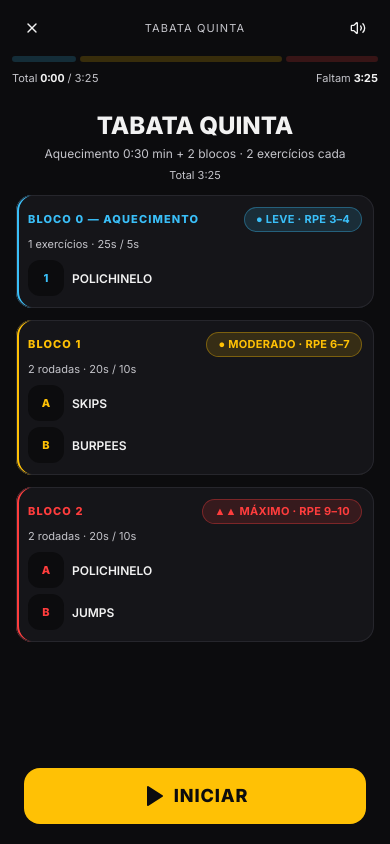
Player do TABATA — tela nova › no descanso o topo já mostra a próxima rodada e o card "A seguir"
Click the button "Iniciar" at (195, 796), box [24,768,366,824]
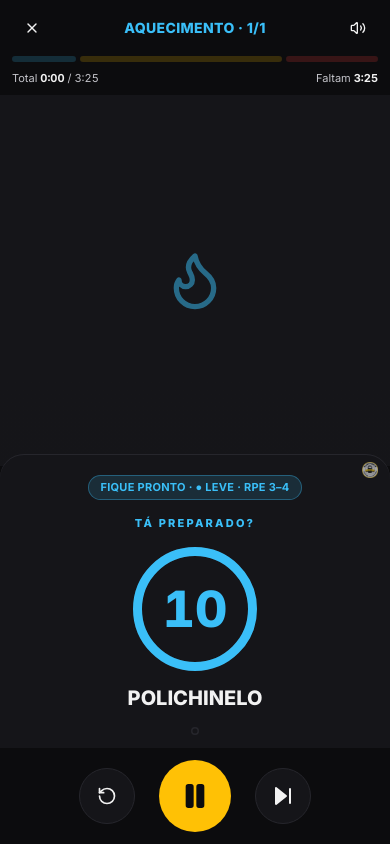
Click the button named "Avançar" at (283, 796), box [255,768,311,824]
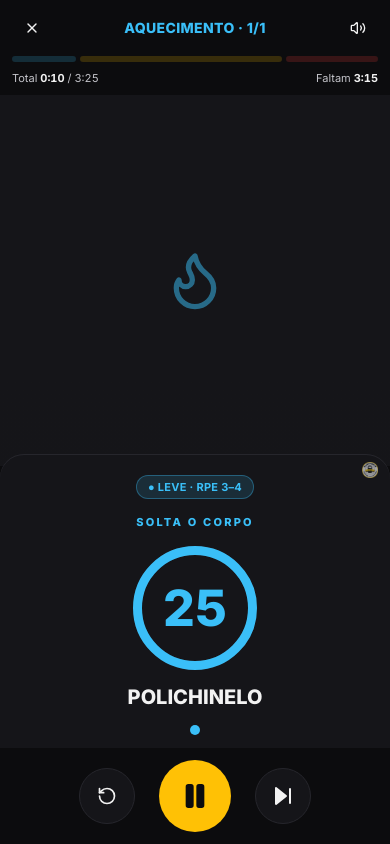
Click the button named "Avançar" at (283, 796), box [255,768,311,824]
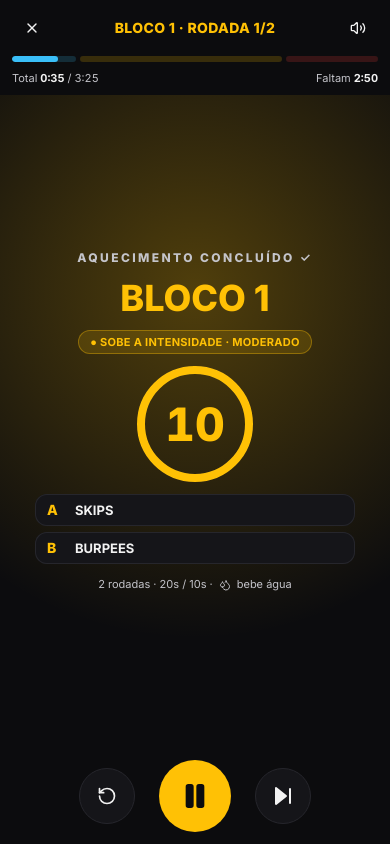
Click the button named "Avançar" at (283, 796), box [255,768,311,824]
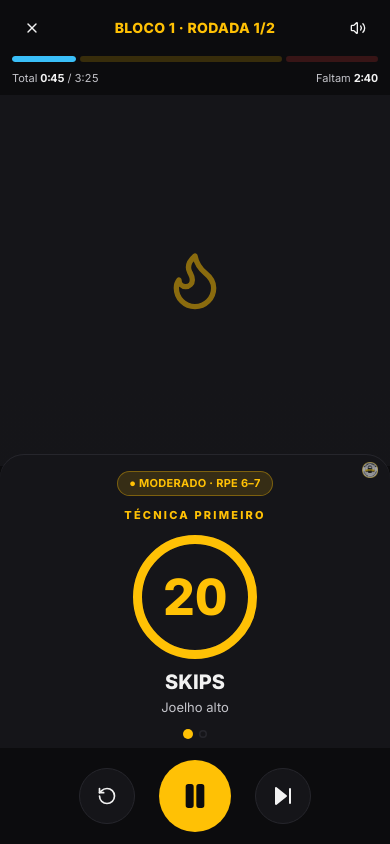
Click the button named "Avançar" at (283, 796), box [255,768,311,824]
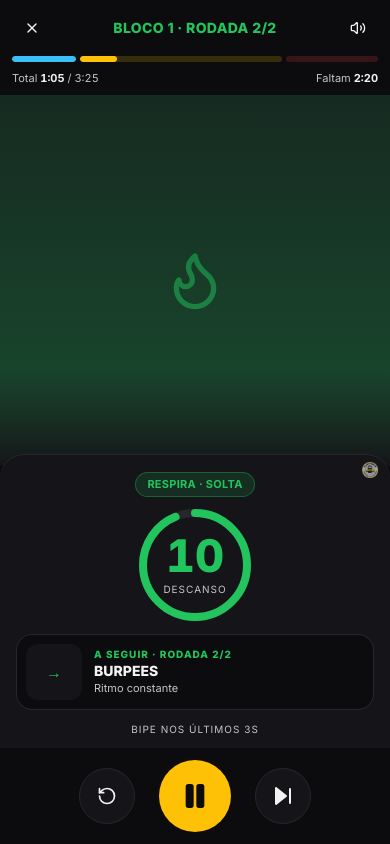
expect the text with test id "tabata-player-block" reads "BLOCO 1 · RODADA 2/2": met, box [113,19,277,36]
expect the element with test id "tabata-next-card" shows "BURPEES": met, box [94,662,158,679]
expect the text with test id "tabata-player-intensity" reads "Respira · solta": met, box [147,477,243,491]
